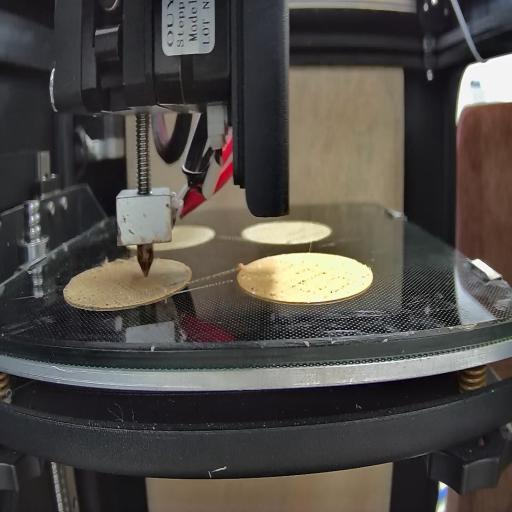under_extrusion: (292, 262, 366, 303), (65, 284, 113, 310), (243, 277, 278, 300), (166, 272, 188, 290)
